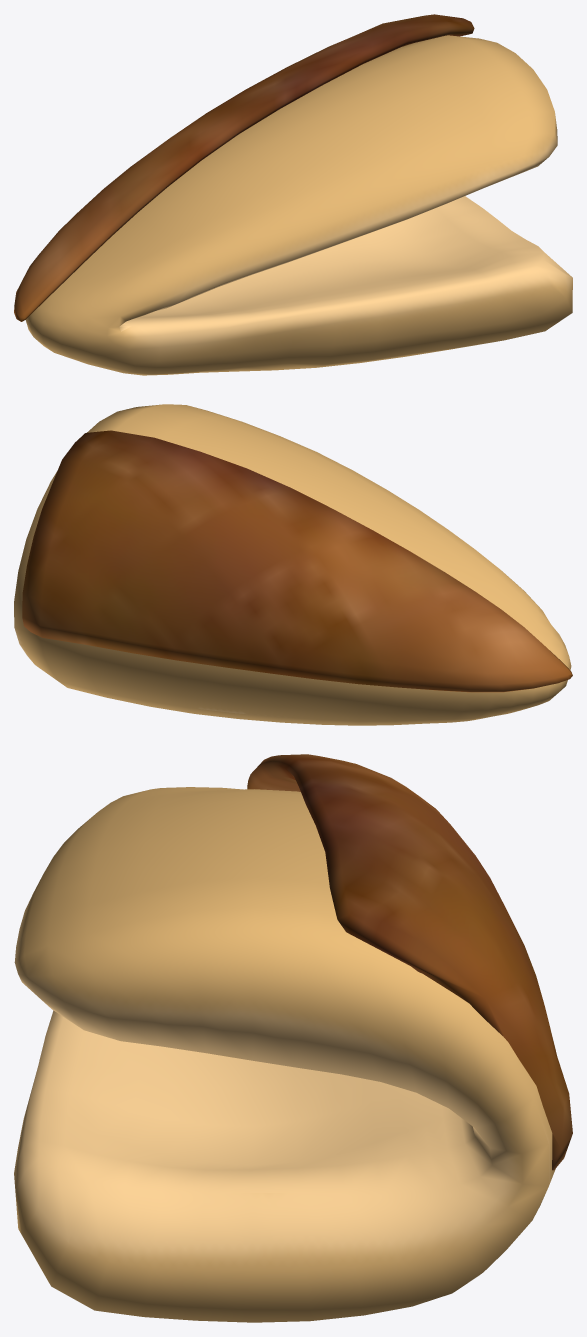
File: half_bread.fbx
3 renders of one model, top to bottom at view 1: azimuth 30°, elevation 25°; view 2: azimuth 150°, elevation 25°; view 3: azimuth 270°, elevation 25°, orthographic. The views are drawn at different scales.
Parts seen in each view (by area): view 1: Cube.003; view 2: Cube.003; view 3: Cube.003.
Boxes of the visible parts, x1,y1,x2,y2 form: Cube.003: (14, 14, 572, 375); Cube.003: (14, 404, 572, 725); Cube.003: (14, 754, 572, 1322).
Bounding box in the file's own units: 223 × 112 × 132.
